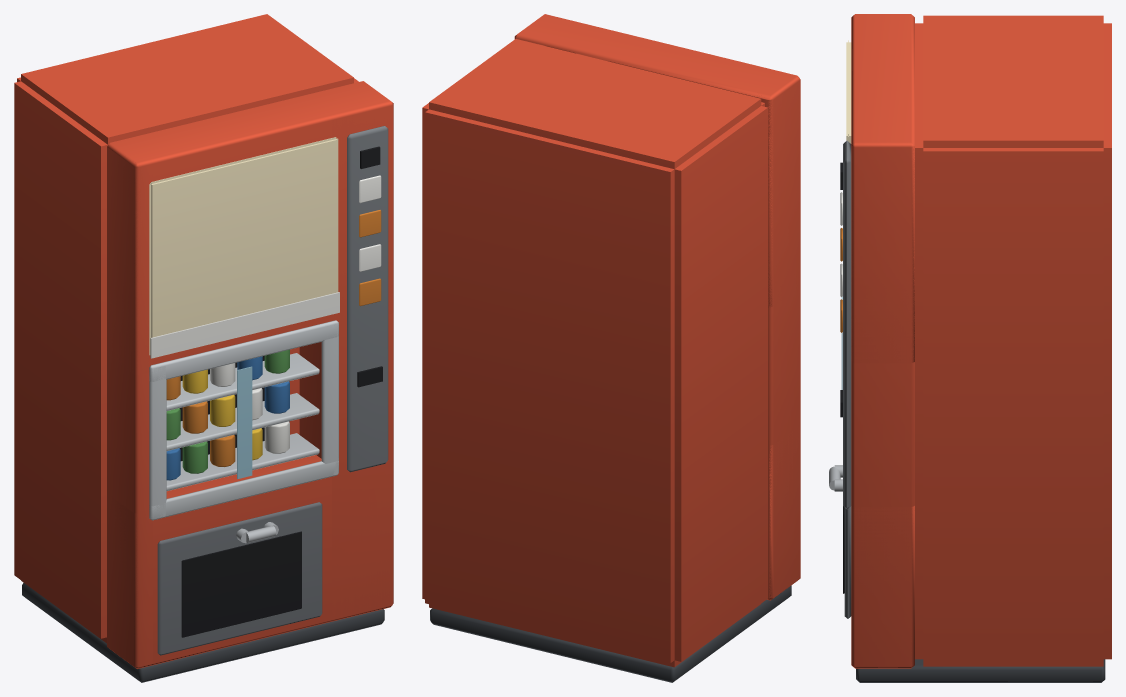
The model's file is VendingMachine_Drink_01.glb.
3 views of the same model, side by side, from view 1: azimuth 30°, elevation 25°; view 2: azimuth 150°, elevation 25°; view 3: azimuth 270°, elevation 25° (orthographic). The views are drawn at different scales.
Parts seen in each view (by area): view 1: SM_VendingMachine_Drink_01; view 2: SM_VendingMachine_Drink_01; view 3: SM_VendingMachine_Drink_01.
Part boxes in pixels (x1,y1,x2,y2): SM_VendingMachine_Drink_01: (14,14,393,682); SM_VendingMachine_Drink_01: (422,14,800,682); SM_VendingMachine_Drink_01: (829,14,1111,682).
Size of the model in its own units: 0.95 by 1.83 by 0.8625.
1 material, 1 textured.
